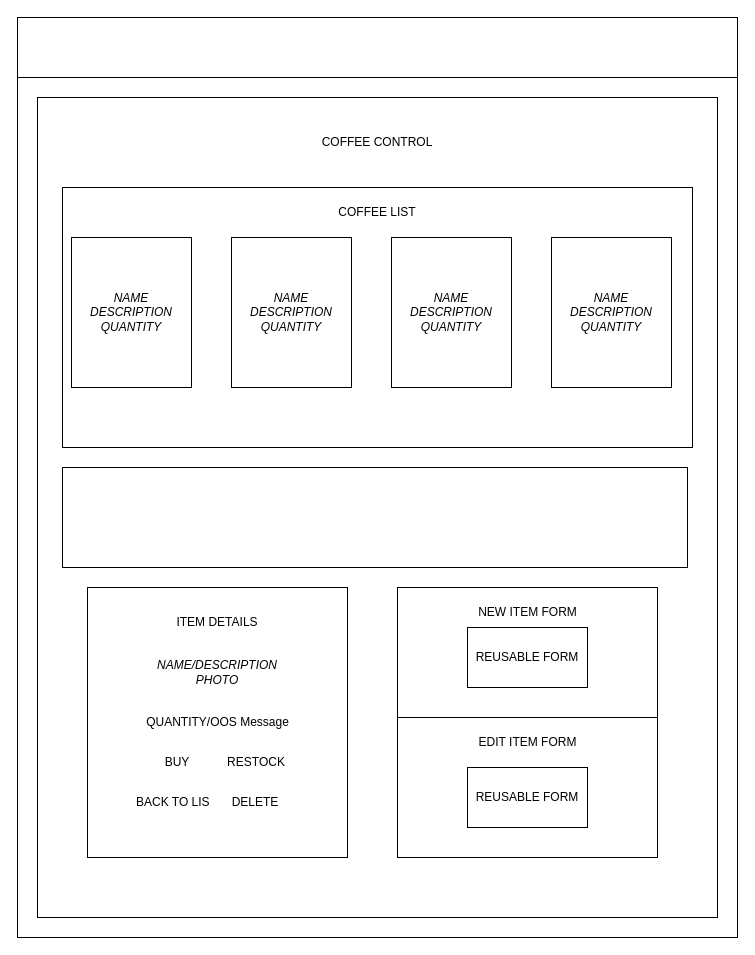
The diagram is 755 pixels wide and 955 high, and some of its shapes have lost their labels. Each missing label, with the box of its shape:
CART: (62, 466, 688, 568)
HEADER/NAV BAR: (16, 16, 738, 78)
